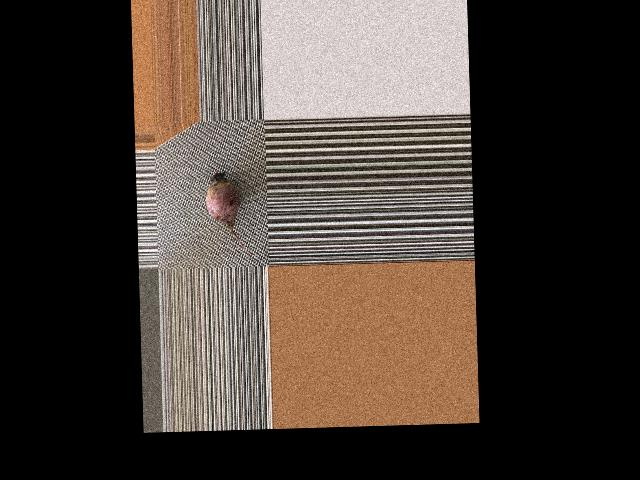beet: (206, 168, 255, 257)
